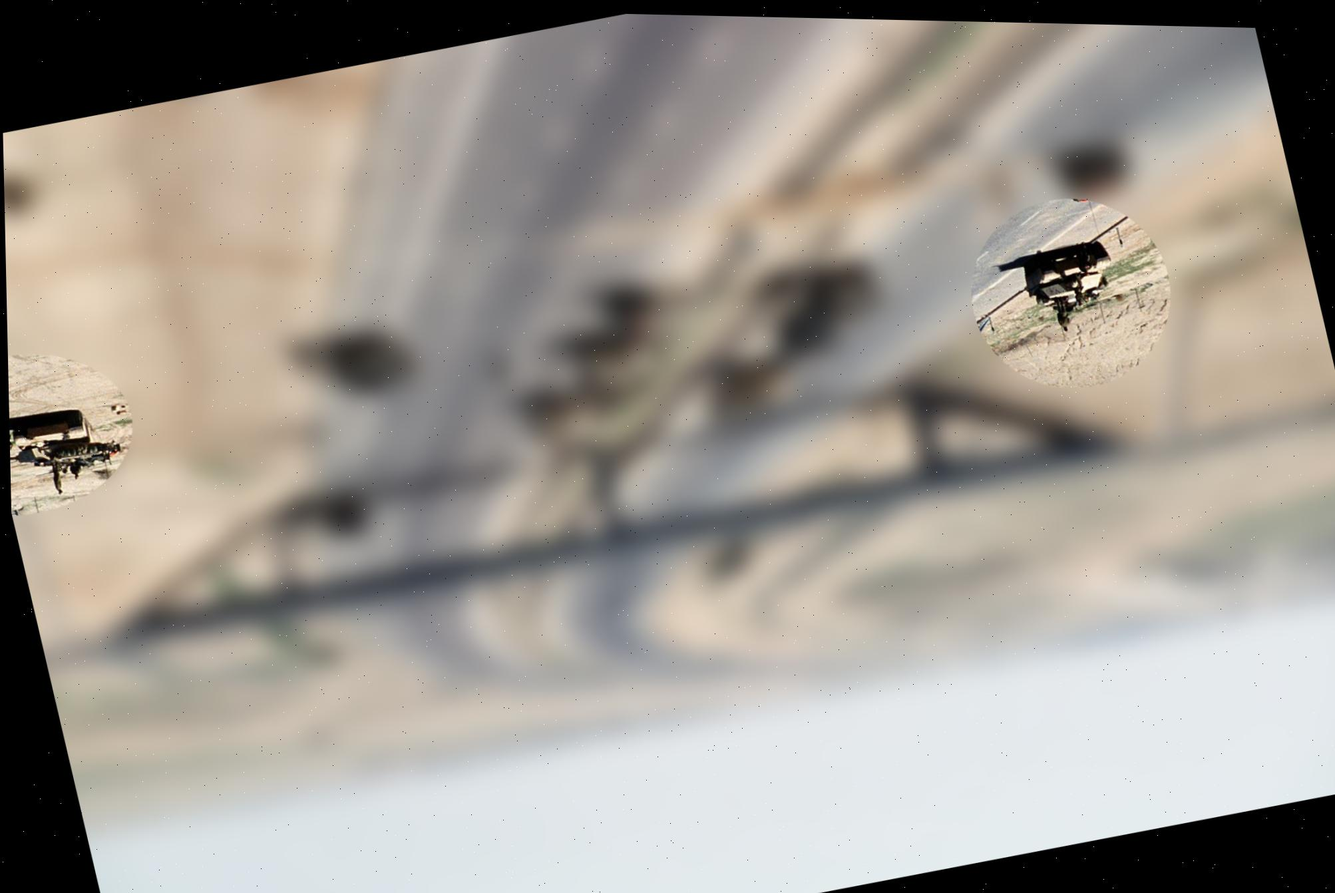truck: (9, 393, 135, 513), (1011, 230, 1129, 339)
